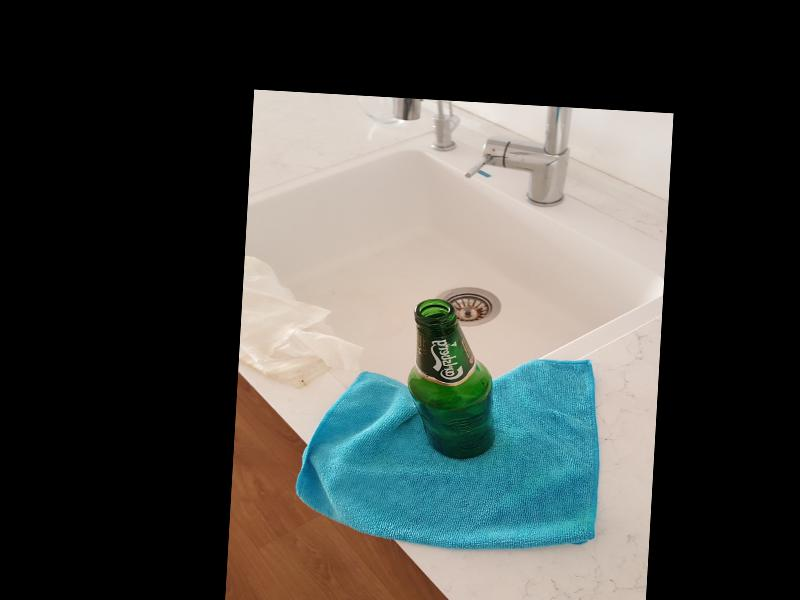Beer: (402, 299, 499, 463)
